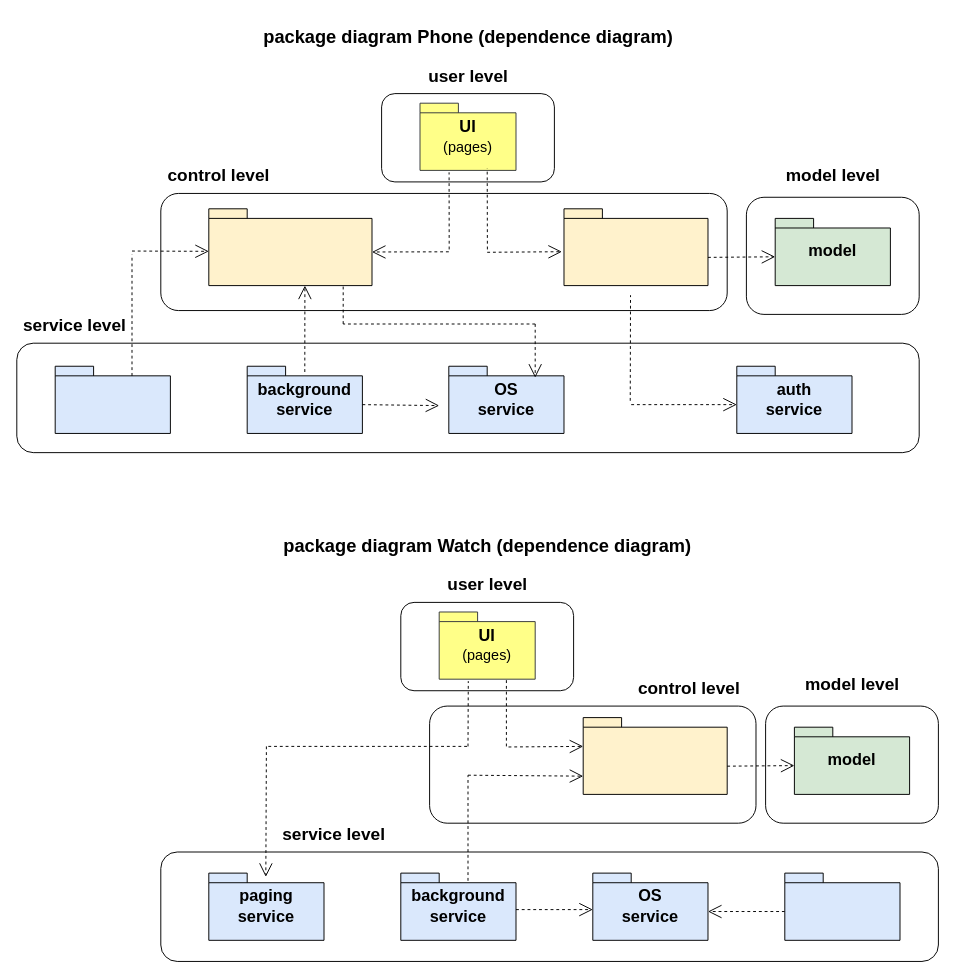
This 955x978 diagram has some shape labels left out. The box of each missing label's shape, as (x1, y1, x2, y2) in pixels:
controller: (582, 717, 727, 794)
domain controller: (563, 208, 708, 286)
internet service: (54, 365, 170, 433)
other controllers (language & service): (208, 208, 372, 286)
watchId service: (784, 872, 900, 940)
